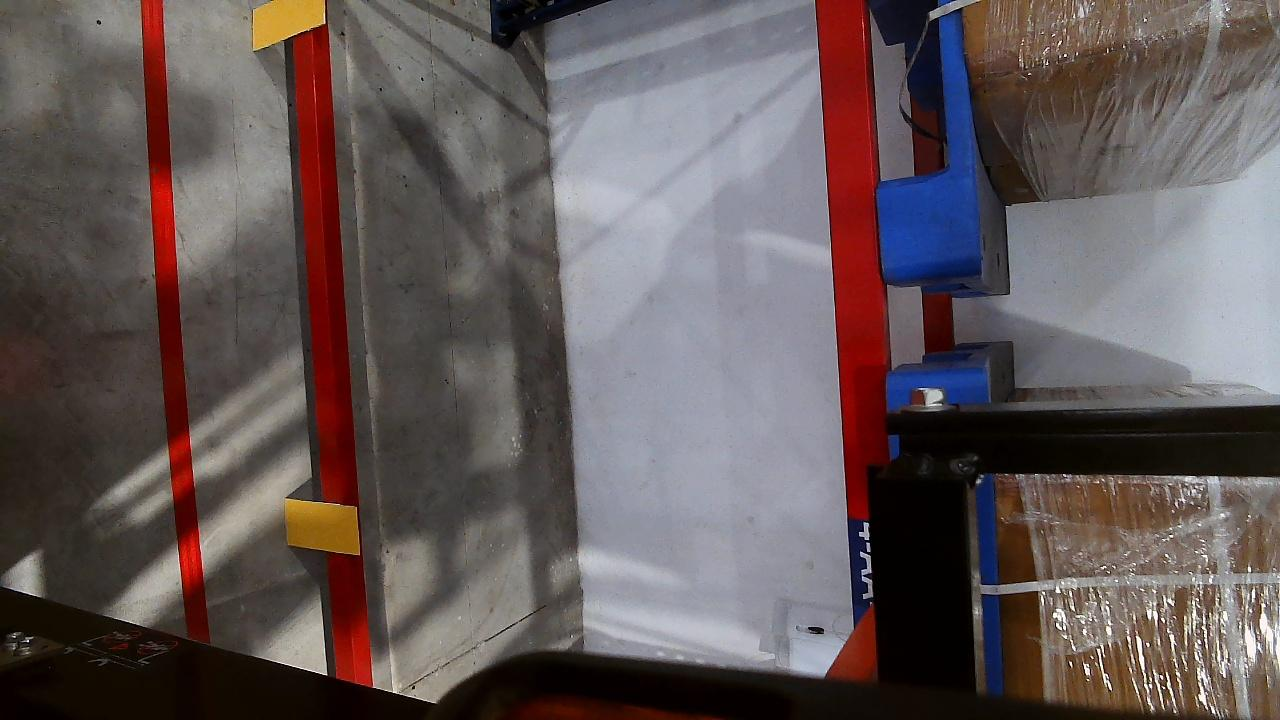h_rack: (808, 0, 902, 623), (289, 32, 374, 685)
orange_strip: (282, 500, 360, 555), (252, 0, 326, 49)
red_line: (140, 0, 197, 602)
small_pallet: (861, 0, 988, 273)
